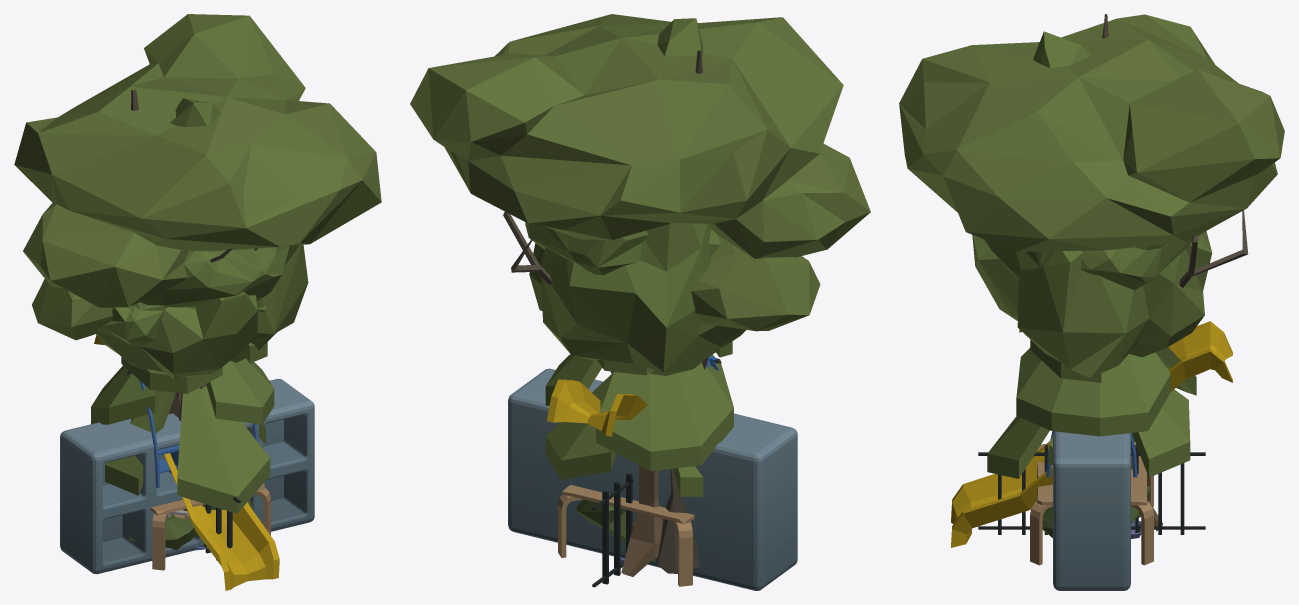
File: classroom.glb
3 renders of one model, left to right at view 1: azimuth 30°, elevation 25°; view 2: azimuth 150°, elevation 25°; view 3: azimuth 270°, elevation 25°, orthographic. The views are drawn at different scales.
Visible parts, largest first — view 1: SM_Env_Tree_01, Shelving_04, SM_Generic_Tree_02, SM_Generic_Tree_03, SM_Generic_Tree_01, SM_Prop_Playground_Slide_01, SM_Prop_Table_01, SM_Env_Bush_01, SM_Prop_Plaground_Swings_01, SM_Env_Park_Fence_01; view 2: SM_Env_Tree_01, Shelving_04, SM_Generic_Tree_03, SM_Generic_Tree_02, SM_Generic_Tree_01, SM_Prop_Playground_Slide_01, SM_Prop_Table_01, SM_Generic_TreeDead_01, SM_Env_Park_Fence_01, SM_Env_Bush_01; view 3: SM_Env_Tree_01, SM_Generic_Tree_03, SM_Generic_Tree_02, Shelving_04, SM_Prop_Playground_Slide_01, SM_Generic_Tree_01, SM_Prop_Table_01, SM_Env_Park_Fence_01, SM_Generic_TreeDead_01.
Part boxes in pixels (left/top/right/bottom): SM_Env_Tree_01: left=14, top=14, right=381, bottom=414; Shelving_04: left=60, top=378, right=314, bottom=574; SM_Generic_Tree_02: left=91, top=342, right=274, bottom=513; SM_Generic_Tree_03: left=96, top=98, right=308, bottom=518; SM_Generic_Tree_01: left=102, top=245, right=298, bottom=389; SM_Prop_Playground_Slide_01: left=94, top=335, right=279, bottom=590; SM_Prop_Table_01: left=150, top=483, right=270, bottom=570; SM_Env_Bush_01: left=128, top=499, right=253, bottom=550; SM_Prop_Plaground_Swings_01: left=127, top=370, right=258, bottom=487; SM_Env_Park_Fence_01: left=204, top=497, right=240, bottom=560; SM_Env_Tree_01: left=410, top=14, right=870, bottom=576; Shelving_04: left=508, top=368, right=797, bottom=590; SM_Generic_Tree_03: left=529, top=18, right=745, bottom=375; SM_Generic_Tree_02: left=545, top=341, right=733, bottom=496; SM_Generic_Tree_01: left=525, top=222, right=720, bottom=275; SM_Prop_Playground_Slide_01: left=546, top=379, right=647, bottom=436; SM_Prop_Table_01: left=558, top=484, right=694, bottom=586; SM_Generic_TreeDead_01: left=503, top=50, right=702, bottom=573; SM_Env_Park_Fence_01: left=592, top=473, right=633, bottom=587; SM_Env_Bush_01: left=576, top=499, right=633, bottom=541; SM_Env_Tree_01: left=899, top=14, right=1284, bottom=530; SM_Generic_Tree_03: left=972, top=31, right=1212, bottom=377; SM_Generic_Tree_02: left=987, top=329, right=1196, bottom=478; Shelving_04: left=1053, top=431, right=1130, bottom=590; SM_Prop_Playground_Slide_01: left=951, top=321, right=1232, bottom=547; SM_Generic_Tree_01: left=981, top=233, right=1201, bottom=295; SM_Prop_Table_01: left=1030, top=444, right=1153, bottom=565; SM_Env_Park_Fence_01: left=978, top=445, right=1205, bottom=534; SM_Generic_TreeDead_01: left=1102, top=14, right=1248, bottom=446.
Size of the model in its own units: 4.55 by 6 by 4.25.
3 materials, 3 textured.
